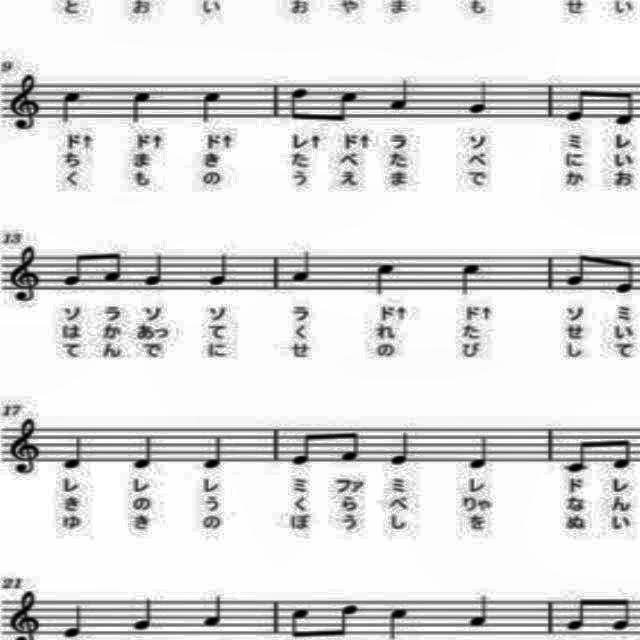Eighth-note: (562, 432, 596, 480), (286, 426, 322, 470), (331, 424, 364, 472), (561, 80, 593, 128), (562, 592, 594, 640), (610, 83, 640, 133), (330, 86, 364, 130), (562, 249, 596, 293), (610, 426, 638, 478), (329, 599, 362, 640), (286, 80, 314, 128), (56, 247, 85, 289), (609, 590, 633, 638), (99, 246, 125, 290), (613, 257, 639, 299), (287, 603, 312, 640)
Quarter-note: (452, 253, 488, 299), (124, 84, 158, 130), (197, 84, 229, 132), (61, 428, 91, 476), (288, 244, 320, 288), (462, 423, 490, 473), (464, 72, 494, 118), (141, 248, 171, 294), (130, 431, 162, 474), (382, 428, 416, 468), (56, 85, 88, 127), (385, 73, 413, 121), (198, 591, 230, 633), (204, 250, 236, 290), (202, 428, 228, 477), (382, 602, 414, 640), (56, 599, 85, 639), (132, 592, 156, 638), (374, 258, 398, 298), (468, 592, 492, 632)
Treble-clef: (6, 70, 46, 142), (3, 243, 45, 310), (7, 415, 45, 481)
